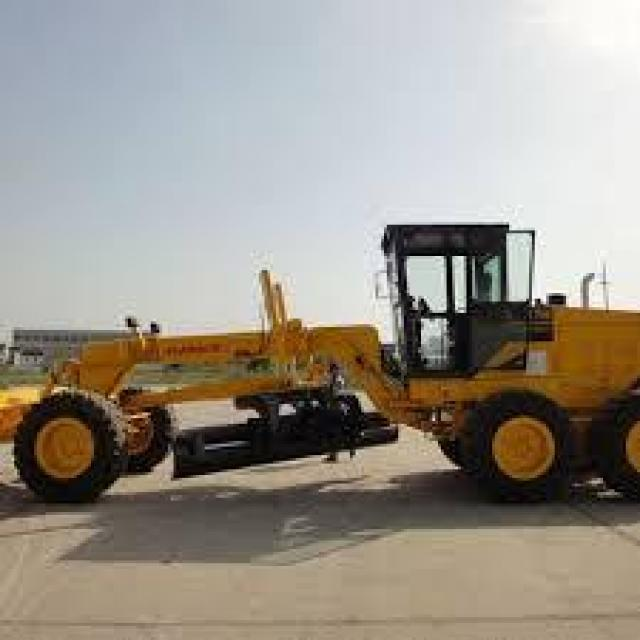Grader: (8, 197, 634, 558)
